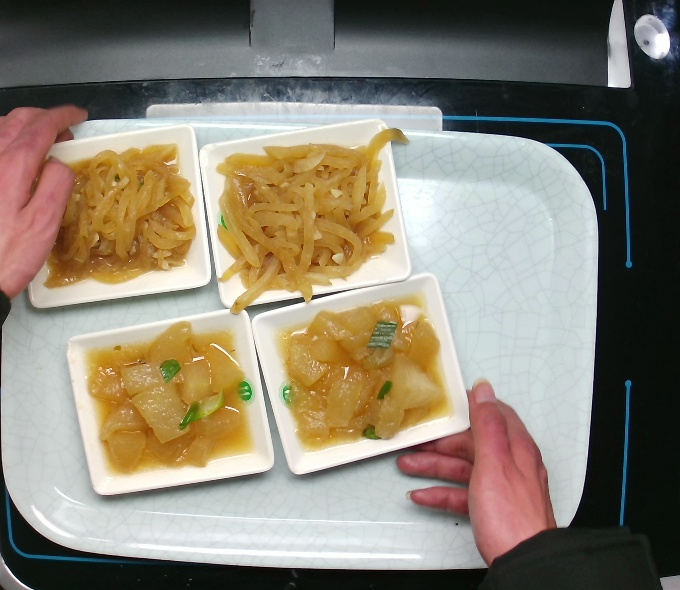wcq-DongGua: (261, 295, 464, 459), (74, 314, 277, 478)
wcq-LuoBoSi: (211, 124, 410, 315), (19, 135, 199, 294)
